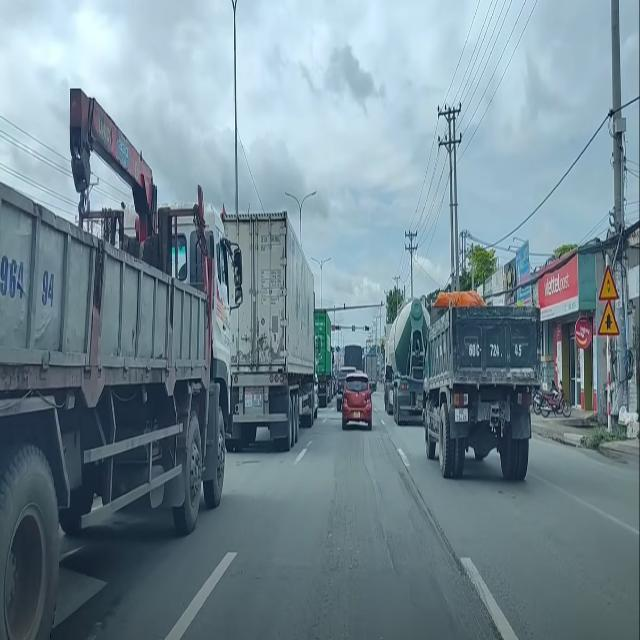Bien bao giao nhau co tin hieu den: (598, 264, 620, 302)
